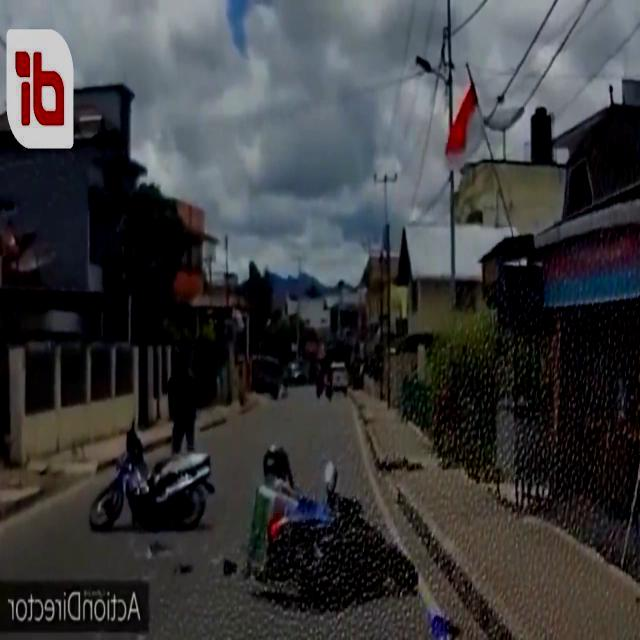accident: (88, 416, 420, 614)
non-accident: (314, 358, 350, 404)
